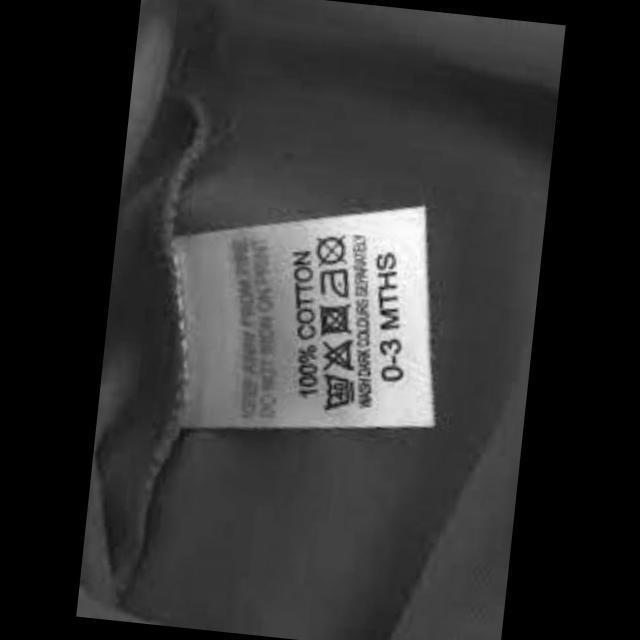40C: (317, 368, 358, 414)
DN_bleach: (317, 332, 358, 374)
DN_dry_clean: (310, 228, 351, 270)
DN_tumble_dry: (312, 297, 358, 340)
iron_low: (314, 261, 351, 301)
